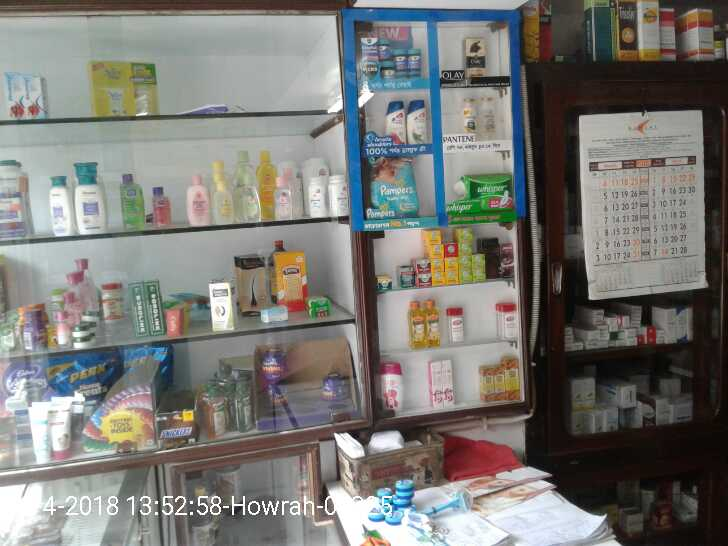vicks: (359, 38, 422, 82), (366, 478, 415, 528)
